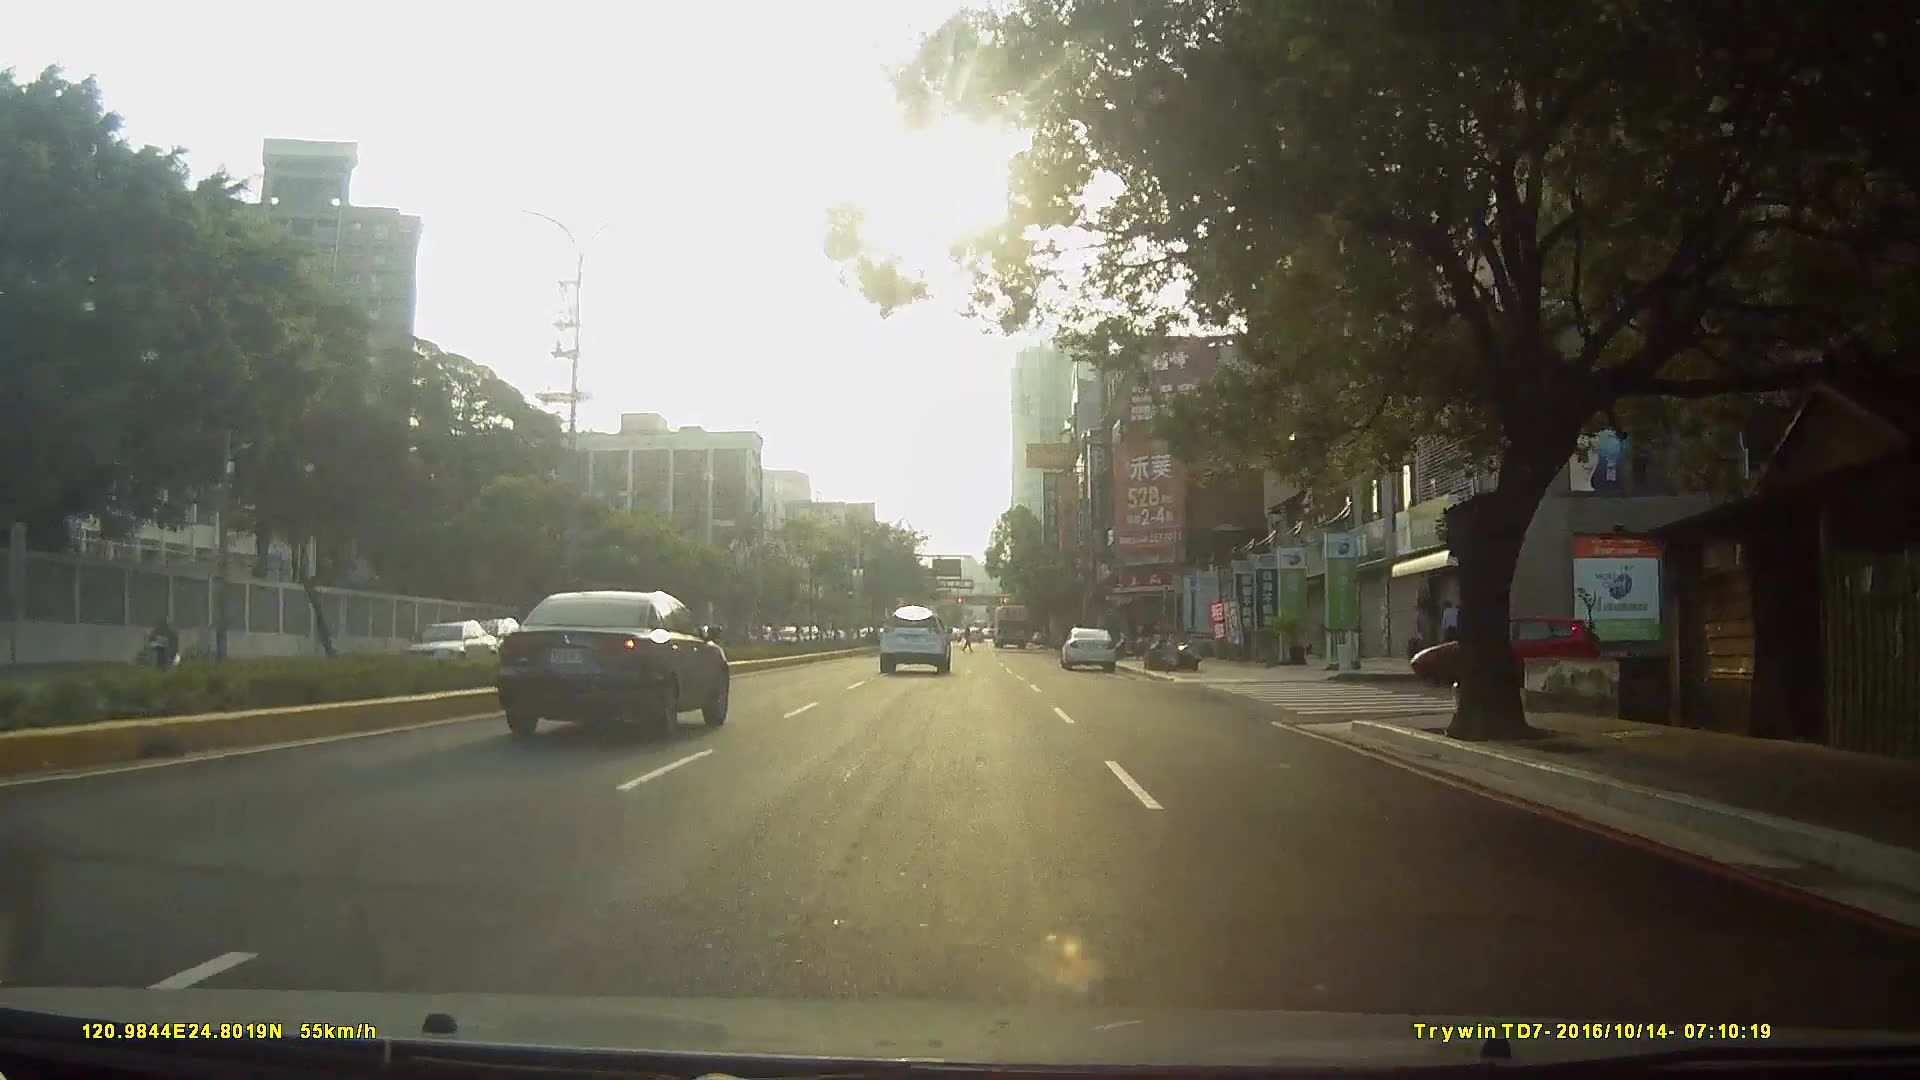pedestrian: (1441, 600, 1463, 666)
rider: (134, 615, 186, 686)
vehicle: (500, 593, 734, 741), (1412, 600, 1618, 689), (396, 622, 509, 688), (878, 608, 951, 677), (459, 616, 525, 666), (1058, 628, 1119, 673), (988, 605, 1032, 652)
